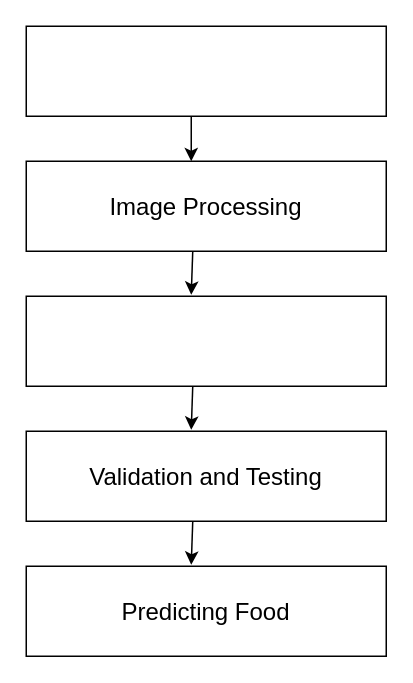
Image size: 413x683. Some labels were removed from this diagram. Here are the shapes that lost their labels. From the top down, the centre of each, then its label:
At point (205, 70): "Food Image dataset".
At point (205, 340): "Build Custom Model on top of pre-trained model".
